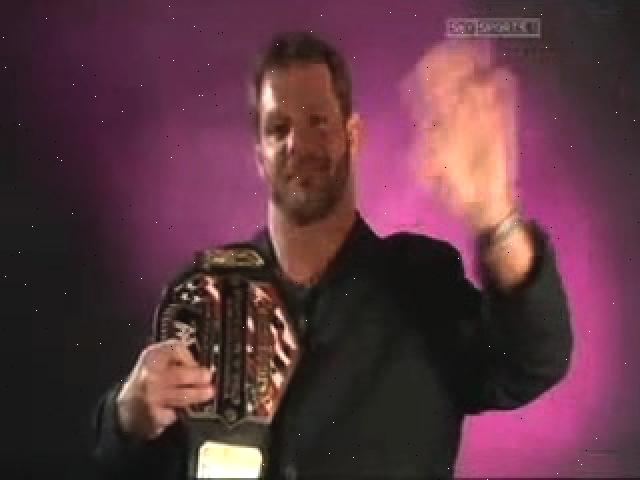L: (90, 31, 571, 478)
